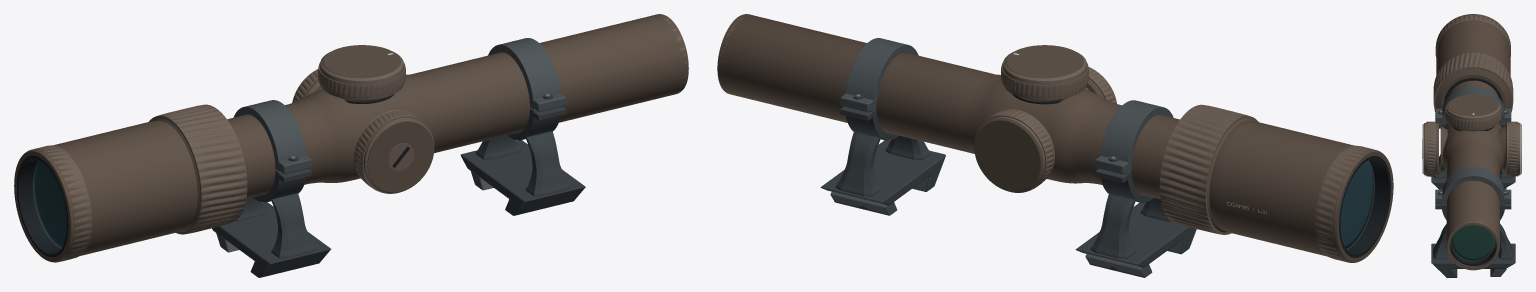
The model's file is L01_Legacy_K1_Rail_Top.fbx.
3 views of the same model, side by side, from view 1: azimuth 30°, elevation 25°; view 2: azimuth 150°, elevation 25°; view 3: azimuth 270°, elevation 25° (orthographic). The views are drawn at different scales.
Visible parts, largest first — view 1: 01 MAIN SHELL | continuous quiet tube and rounded shoulders, 07 WIDE REAR GRIP | diagonal recessed bands, 10.0 LOCAL BASE | independent front crown and fixed return, 10.1 LOCAL BASE | independent rear crown and fixed return, 06 SIDE FACE -1, 08.1 RING UPPER, 08.0 RING UPPER, 07 NARROW OCULAR GRIP, 05 TOP FACE | quiet disk, 02 REAR INNER | dark edge, 04 REAR VISUAL PANE, 09.1.-1 CURVED INTEGRAL FORK (+13 smaller); view 2: 01 MAIN SHELL | continuous quiet tube and rounded shoulders, 07 WIDE REAR GRIP | diagonal recessed bands, 06 SIDE FACE 1, 10.0 LOCAL BASE | independent front crown and fixed return, 10.1 LOCAL BASE | independent rear crown and fixed return, 08.1 RING UPPER, 08.0 RING UPPER, 07 NARROW OCULAR GRIP, 05 TOP FACE | quiet disk, 02 REAR INNER | dark edge, 04 REAR VISUAL PANE, 09.0.1 CURVED INTEGRAL FORK (+14 smaller); view 3: 01 MAIN SHELL | continuous quiet tube and rounded shoulders, 07 WIDE REAR GRIP | diagonal recessed bands, 04 FRONT VISUAL PANE, 07 GRIP ROUND SHOULDERS, 08.0 RING UPPER, 05 TOP FACE | quiet disk, 10.0 LOCAL BASE | independent front crown and fixed return, 06 SIDE GRIP 1, 08.1 RING UPPER, 05 TOP CAP | shallow diamond valleys, 06 SIDE GRIP -1, 07 NARROW OCULAR GRIP (+20 smaller).
Boxes of the visible parts, x1,y1,x2,y2 form: 01 MAIN SHELL | continuous quiet tube and rounded shoulders: [14, 14, 688, 262]; 07 WIDE REAR GRIP | diagonal recessed bands: [149, 104, 247, 234]; 10.0 LOCAL BASE | independent front crown and fixed return: [460, 140, 585, 215]; 10.1 LOCAL BASE | independent rear crown and fixed return: [212, 202, 331, 277]; 06 SIDE FACE -1: [367, 121, 433, 192]; 08.1 RING UPPER: [233, 100, 306, 171]; 08.0 RING UPPER: [488, 38, 560, 109]; 07 NARROW OCULAR GRIP: [23, 145, 91, 262]; 05 TOP FACE | quiet disk: [323, 45, 400, 78]; 02 REAR INNER | dark edge: [16, 155, 68, 257]; 04 REAR VISUAL PANE: [33, 160, 66, 248]; 09.1.-1 CURVED INTEGRAL FORK: [271, 193, 316, 258]; 01 MAIN SHELL | continuous quiet tube and rounded shoulders: [718, 14, 1393, 262]; 07 WIDE REAR GRIP | diagonal recessed bands: [1159, 104, 1258, 234]; 06 SIDE FACE 1: [974, 120, 1041, 191]; 10.0 LOCAL BASE | independent front crown and fixed return: [820, 140, 945, 205]; 10.1 LOCAL BASE | independent rear crown and fixed return: [1075, 202, 1196, 267]; 08.1 RING UPPER: [1100, 100, 1173, 171]; 08.0 RING UPPER: [845, 38, 918, 109]; 07 NARROW OCULAR GRIP: [1315, 145, 1382, 262]; 05 TOP FACE | quiet disk: [1006, 45, 1083, 78]; 02 REAR INNER | dark edge: [1339, 156, 1390, 257]; 04 REAR VISUAL PANE: [1340, 161, 1373, 249]; 09.0.1 CURVED INTEGRAL FORK: [835, 131, 880, 196]; 01 MAIN SHELL | continuous quiet tube and rounded shoulders: [1436, 14, 1510, 268]; 07 WIDE REAR GRIP | diagonal recessed bands: [1433, 52, 1513, 112]; 04 FRONT VISUAL PANE: [1452, 225, 1494, 260]; 07 GRIP ROUND SHOULDERS: [1435, 68, 1511, 108]; 08.0 RING UPPER: [1441, 167, 1505, 204]; 05 TOP FACE | quiet disk: [1448, 94, 1498, 116]; 10.0 LOCAL BASE | independent front crown and fixed return: [1431, 243, 1515, 277]; 06 SIDE GRIP 1: [1508, 121, 1518, 176]; 08.1 RING UPPER: [1441, 86, 1505, 123]; 05 TOP CAP | shallow diamond valleys: [1444, 106, 1501, 129]; 06 SIDE GRIP -1: [1426, 121, 1435, 176]; 07 NARROW OCULAR GRIP: [1435, 14, 1510, 57].
Bounding box in the file's own units: 37.82 × 9.94 × 7.98.
